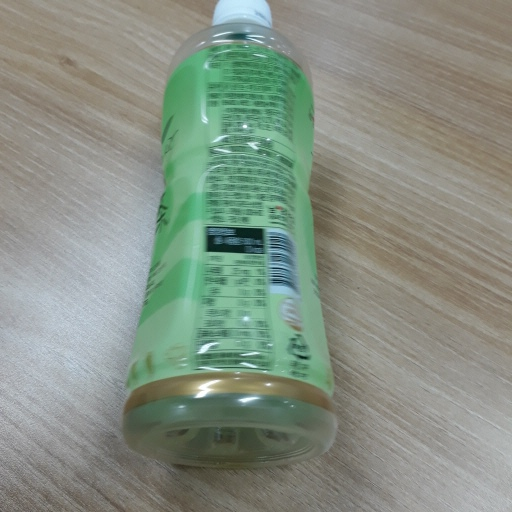Plastic_0: (124, 4, 341, 467)
